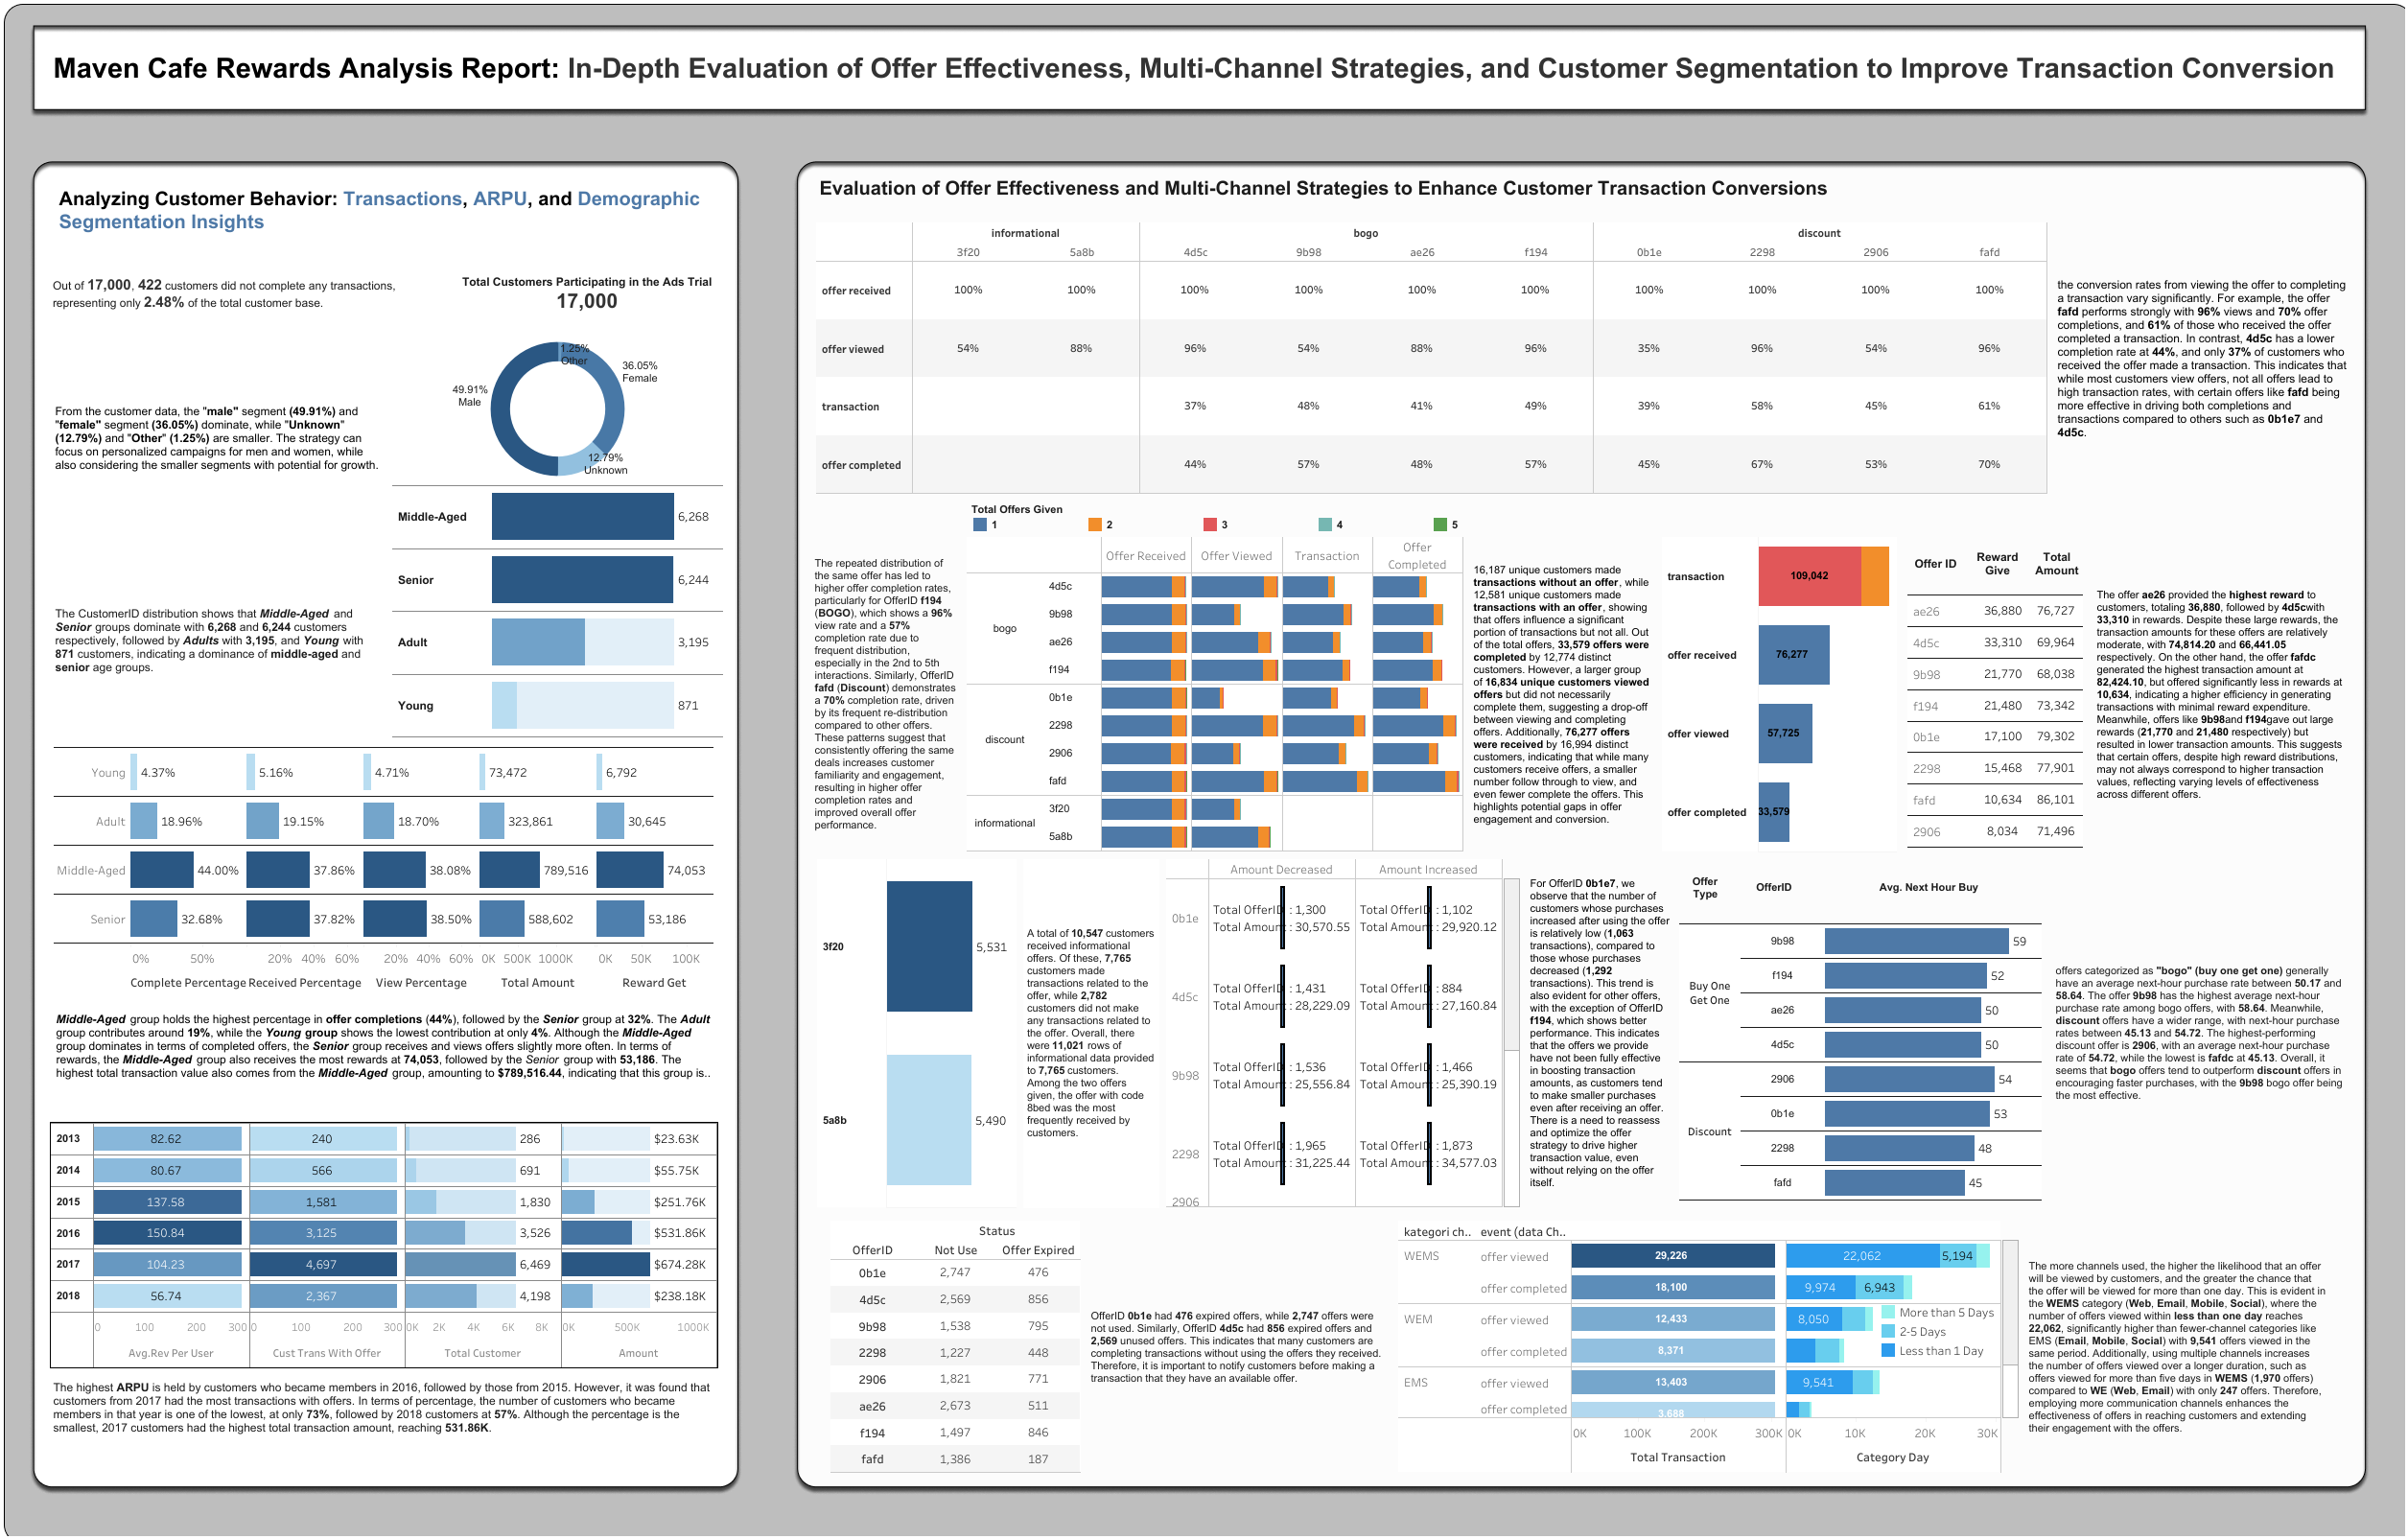

The page's visual inventory and layout, read from the dashboard file:
{"tool":"tableau","page":{"name":"Dashboard 2 (4)","canvas":[2512,1606],"ordinal":1},"visuals":[{"type":"image","param":"D:/Project SQL/Cafe Rewards/Group 5.png","box":[0,0,2512,1606]},{"type":"text","box":[53,34,2397,74]},{"type":"text","box":[852,180,1586,32]},{"type":"text","box":[59,187,694,64]},{"type":"worksheet","title":"10.Percentage (2)","mark":"Automatic","rows":["event (Custom SQL Query1)"],"cols":["offer_type (Custom SQL Query1)","Calculation_461619020821475331"],"box":[847,228,1292,291]},{"type":"text","box":[2139,228,319,291]},{"type":"worksheet","title":"2customer never transacation (2)","mark":"Automatic","box":[46.8,265,420.5,83.4]},{"type":"worksheet","title":"1customer id (2)","mark":"Automatic","box":[467.3,265,291,83.4]},{"type":"text","box":[51,351,354,211]},{"type":"worksheet","title":"3gender (2)","mark":"Pie","rows":["Calculation_881016735757099020","Calculation_881016735757099020"],"box":[405,351,353,151]},{"type":"worksheet","title":"4kategoriusia","mark":"Bar","rows":["klasifikasi_age"],"cols":["customer_id (RFM)"],"box":[405,502,353,271]},{"type":"legend","title":"ofer recieve","param":"[federated.1n00zju0jr4d071almx0e1qj43t9].[none:give_offer:ok]","box":[1012,523,510,37]},{"type":"text","box":[843,556,161,336]},{"type":"worksheet","title":"ofer recieve","mark":"Bar","rows":["offer_type (Custom SQL Query9)","Calculation_384213402260582401"],"cols":["event (Custom SQL Query9)","OfferId (Custom SQL Query9)"],"box":[1004,556,526,336]},{"type":"text","box":[1530,556,199,336]},{"type":"worksheet","title":"7.event","mark":"Automatic","rows":["event"],"cols":["customer_id"],"box":[1729,556,252,336]},{"type":"text","box":[2180,556,273,336]},{"type":"text","box":[1985,560,67,56]},{"type":"text","box":[2052,560,60,56]},{"type":"text","box":[2112,560,64,56]},{"type":"text","box":[51,562,354,211]},{"type":"worksheet","title":"8&9.reward_get (ini) (2)","mark":"Automatic","rows":["Calculation_461619020822319111"],"cols":["Calculation_881016735983128595","Calculation_881016735983128595"],"box":[1985,616,191,272]},{"type":"worksheet","title":"15.5.age group","mark":"Automatic","rows":["klasifikasi_age (Custom SQL Query6)"],"cols":["Calculation_1409345266787168261","Calculation_1409345266787188742","Calculation_1409345266787205127","total_amount","Reward_Give"],"box":[52,775.4,695.9,269.7]},{"type":"text","box":[2137.2,888.3,317.6,379.1]},{"type":"worksheet","title":"12.7.3. offer into transfer","mark":"Automatic","rows":["Calculation_1320399174828187663"],"cols":["total (Custom SQL Query3)"],"box":[847.6,892.3,215,371.1]},{"type":"worksheet","title":"12.7.1&2 offer into transfer (2)","mark":"Automatic","box":[1062.6,892.3,149,371.1]},{"type":"worksheet","title":"13.6. Next Transaksi < > (2)","mark":"Automatic","rows":["Calculation_1320399174827282445"],"cols":["kat","Calculation_1579356153360576513"],"box":[1211.5,892.3,377.8,371.1]},{"type":"text","box":[1589.3,892.3,158,371.1]},{"type":"text","box":[1747.3,892.3,63,67]},{"type":"text","box":[1810.3,892.3,80,67]},{"type":"text","box":[1890.3,892.3,242.9,67]},{"type":"worksheet","title":"11.3. Offer nextbuy","mark":"Automatic","rows":["offer_type (Custom SQL Query2)","Calculation_461619020822491144"],"cols":["next_hourbuy"],"box":[1747.3,959.3,385.8,297]},{"type":"text","box":[52,1045.1,695.9,91]},{"type":"worksheet","title":"5.1. & 6 Avg.Rev Per user (4)","mark":"Bar","rows":["Tahun"],"cols":["Calculation_881016735751237641","customer_id","Amount (copy)_1409345266676236289","Calculation_881016735751602186"],"box":[52,1170.5,696.9,256.4]},{"type":"worksheet","title":"17.10.ADS","mark":"Automatic","rows":["Calculation_1320399174818398219"],"cols":["status"],"box":[862.3,1268.6,269,271.1]},{"type":"text","box":[1131.3,1268.6,322.5,271.1]},{"type":"worksheet","title":"16.9dan 14.8 kategori channel (2)","mark":"Automatic","rows":["kategori_channels (data_ChannelDays.csv)","event (data_ChannelDays.csv)"],"cols":["total (Custom SQL Query5)","OfferId (data_ChannelDays.csv)"],"box":[1453.8,1268.6,655.5,271.1]},{"type":"text","box":[2109.4,1268.6,322.5,271.1]},{"type":"legend","title":"16.9dan 14.8 kategori channel (2)","param":"[federated.1n00zju0jr4d071almx0e1qj43t9].[none:Kategori Day:nk]","box":[1959,1358,148,67]},{"type":"text","box":[53.1,1391.4,692.8,154]}]}

Visuals, with their boxes in screenshot pixels (x1, y1, x2, y2), scaled from the page's 2512x1606 canvas onto the 2408x1539 screenshot:
image: {"x1": 0, "y1": 0, "x2": 2407, "y2": 1538}
text: {"x1": 51, "y1": 33, "x2": 2349, "y2": 104}
text: {"x1": 817, "y1": 173, "x2": 2337, "y2": 203}
text: {"x1": 57, "y1": 179, "x2": 722, "y2": 241}
"10.Percentage (2)" worksheet: {"x1": 812, "y1": 219, "x2": 2050, "y2": 498}
text: {"x1": 2050, "y1": 219, "x2": 2356, "y2": 498}
"2customer never transacation (2)" worksheet: {"x1": 45, "y1": 254, "x2": 448, "y2": 334}
"1customer id (2)" worksheet: {"x1": 448, "y1": 254, "x2": 727, "y2": 334}
text: {"x1": 49, "y1": 337, "x2": 388, "y2": 539}
"3gender (2)" worksheet (Pie marks): {"x1": 388, "y1": 337, "x2": 727, "y2": 481}
"4kategoriusia" worksheet (Bar marks): {"x1": 388, "y1": 481, "x2": 727, "y2": 741}
"ofer recieve" legend: {"x1": 970, "y1": 501, "x2": 1459, "y2": 537}
text: {"x1": 808, "y1": 533, "x2": 963, "y2": 854}
"ofer recieve" worksheet (Bar marks): {"x1": 963, "y1": 533, "x2": 1466, "y2": 854}
text: {"x1": 1466, "y1": 533, "x2": 1657, "y2": 854}
"7.event" worksheet: {"x1": 1657, "y1": 533, "x2": 1899, "y2": 854}
text: {"x1": 2090, "y1": 533, "x2": 2351, "y2": 854}
text: {"x1": 1903, "y1": 537, "x2": 1967, "y2": 591}
text: {"x1": 1967, "y1": 537, "x2": 2024, "y2": 591}
text: {"x1": 2024, "y1": 537, "x2": 2086, "y2": 591}
text: {"x1": 49, "y1": 539, "x2": 388, "y2": 741}
"8&9.reward_get (ini) (2)" worksheet: {"x1": 1903, "y1": 591, "x2": 2086, "y2": 851}
"15.5.age group" worksheet: {"x1": 50, "y1": 743, "x2": 717, "y2": 1001}
text: {"x1": 2048, "y1": 851, "x2": 2353, "y2": 1215}
"12.7.3. offer into transfer" worksheet: {"x1": 812, "y1": 855, "x2": 1018, "y2": 1211}
"12.7.1&2 offer into transfer (2)" worksheet: {"x1": 1018, "y1": 855, "x2": 1161, "y2": 1211}
"13.6. Next Transaksi < > (2)" worksheet: {"x1": 1161, "y1": 855, "x2": 1524, "y2": 1211}
text: {"x1": 1524, "y1": 855, "x2": 1675, "y2": 1211}
text: {"x1": 1675, "y1": 855, "x2": 1736, "y2": 920}
text: {"x1": 1736, "y1": 855, "x2": 1812, "y2": 920}
text: {"x1": 1812, "y1": 855, "x2": 2045, "y2": 920}
"11.3. Offer nextbuy" worksheet: {"x1": 1675, "y1": 920, "x2": 2045, "y2": 1204}
text: {"x1": 50, "y1": 1001, "x2": 717, "y2": 1088}
"5.1. & 6 Avg.Rev Per user (4)" worksheet (Bar marks): {"x1": 50, "y1": 1122, "x2": 718, "y2": 1367}
"17.10.ADS" worksheet: {"x1": 827, "y1": 1216, "x2": 1085, "y2": 1476}
text: {"x1": 1085, "y1": 1216, "x2": 1393, "y2": 1476}
"16.9dan 14.8 kategori channel (2)" worksheet: {"x1": 1393, "y1": 1216, "x2": 2022, "y2": 1476}
text: {"x1": 2022, "y1": 1216, "x2": 2331, "y2": 1476}
"16.9dan 14.8 kategori channel (2)" legend: {"x1": 1878, "y1": 1301, "x2": 2020, "y2": 1365}
text: {"x1": 51, "y1": 1334, "x2": 715, "y2": 1481}
